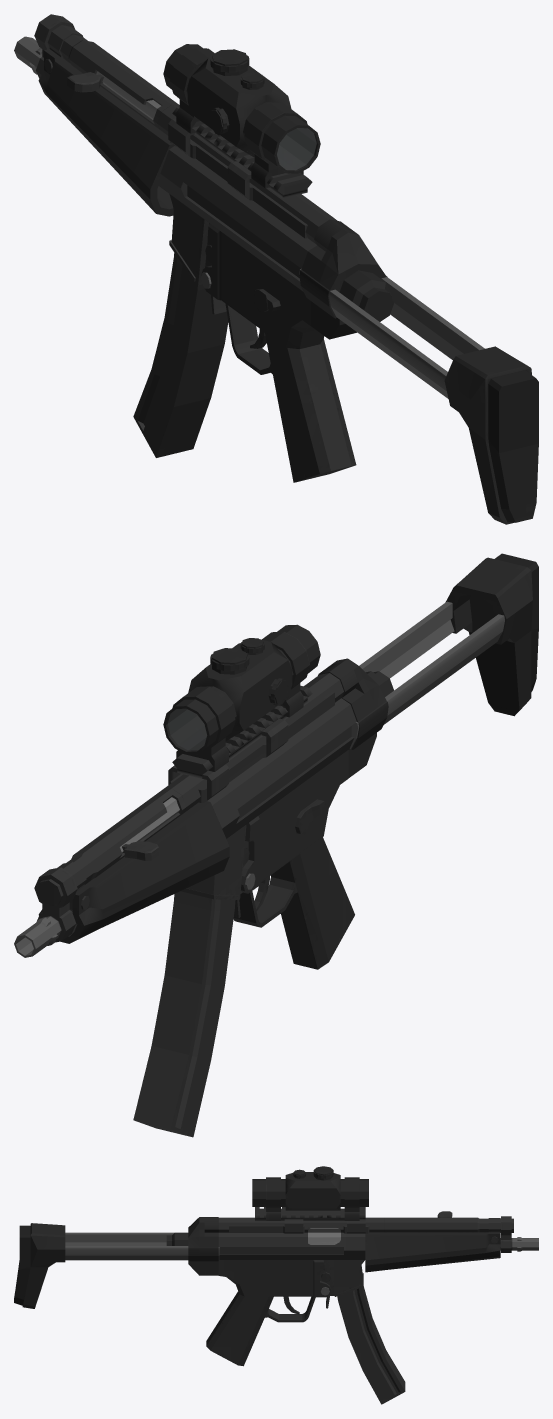
Rendered from smg.glb.
3 views of the same model, one above another, from view 1: azimuth 30°, elevation 25°; view 2: azimuth 150°, elevation 25°; view 3: azimuth 270°, elevation 25° (orthographic). The views are drawn at different scales.
Parts seen in each view (by area): view 1: body, Butt_Pad, Magazine, Pistol_Grip, Handguard_Standard, Body, Stock_Collapsable, Arm_Left, Arm_Right, Piccatiny_Rail, Rings_Rear, Cylinder (+8 smaller); view 2: body, Magazine, Butt_Pad, Handguard_Standard, Pistol_Grip, Body, Arm_Left, Stock_Collapsable, Arm_Right, Rings_Front, Piccatiny_Rail, Rings_Rear (+5 smaller); view 3: body, Handguard_Standard, Magazine, Pistol_Grip, Butt_Pad, Body, Arm_Right, Stock_Collapsable, Arm_Left, Piccatiny_Rail, Rings_Front, Rings_Rear (+6 smaller).
Boxes of the visible parts, bbox=[...] form: body: bbox=[60, 34, 337, 349]; Butt_Pad: bbox=[444, 346, 538, 524]; Magazine: bbox=[133, 253, 228, 457]; Pistol_Grip: bbox=[225, 303, 356, 482]; Handguard_Standard: bbox=[38, 49, 174, 216]; Body: bbox=[163, 44, 320, 173]; Stock_Collapsable: bbox=[299, 219, 387, 339]; Arm_Left: bbox=[299, 268, 448, 398]; Arm_Right: bbox=[381, 277, 484, 359]; Piccatiny_Rail: bbox=[172, 106, 312, 198]; Rings_Rear: bbox=[244, 102, 307, 188]; Cylinder: bbox=[339, 270, 393, 321]; body: bbox=[36, 673, 356, 906]; Magazine: bbox=[133, 891, 235, 1137]; Butt_Pad: bbox=[445, 553, 538, 716]; Handguard_Standard: bbox=[38, 801, 229, 943]; Pistol_Grip: bbox=[233, 837, 354, 969]; Body: bbox=[163, 624, 320, 754]; Arm_Left: bbox=[349, 614, 504, 749]; Stock_Collapsable: bbox=[318, 658, 388, 777]; Arm_Right: bbox=[359, 601, 454, 678]; Rings_Front: bbox=[172, 686, 235, 771]; Piccatiny_Rail: bbox=[172, 685, 312, 778]; Rings_Rear: bbox=[262, 631, 309, 717]; body: bbox=[218, 1217, 513, 1297]; Handguard_Standard: bbox=[365, 1232, 500, 1272]; Magazine: bbox=[337, 1286, 405, 1404]; Pistol_Grip: bbox=[206, 1291, 315, 1366]; Butt_Pad: bbox=[14, 1223, 65, 1308]; Body: bbox=[252, 1172, 368, 1210]; Arm_Right: bbox=[65, 1246, 219, 1260]; Stock_Collapsable: bbox=[188, 1217, 218, 1275]; Arm_Left: bbox=[65, 1232, 174, 1245]; Piccatiny_Rail: bbox=[255, 1207, 365, 1221]; Rings_Front: bbox=[344, 1177, 359, 1220]; Rings_Rear: bbox=[266, 1177, 280, 1220].
Bounding box in the file's own units: 0.0233 × 0.1182 × 0.2448.
7 materials, 7 textured.
